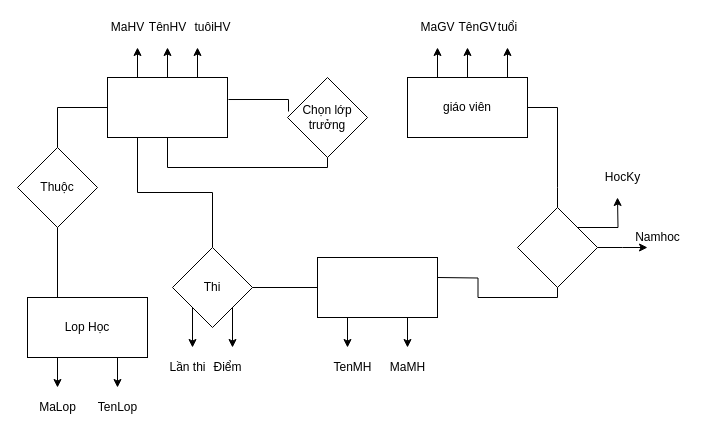
Image size: 705x434. Some labels were removed from this diagram. The centre of each missing label's shape, as x and y in pixels:
"Dạy" belongs at point 557,247.
"học viên" belongs at point 167,107.
"môn học" belongs at point 377,287.
